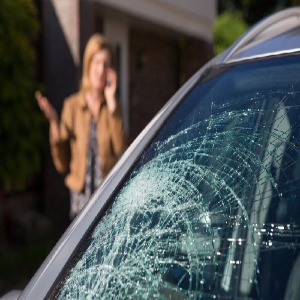bonnet: (36, 101, 120, 138)
bumper: (7, 190, 98, 247)
head_lights: (54, 137, 110, 191)
